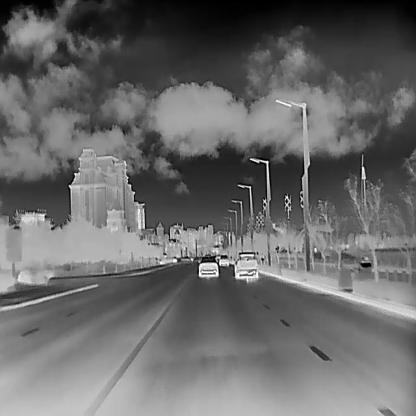car: (233, 250, 258, 278), (197, 255, 218, 277), (218, 253, 229, 266)
